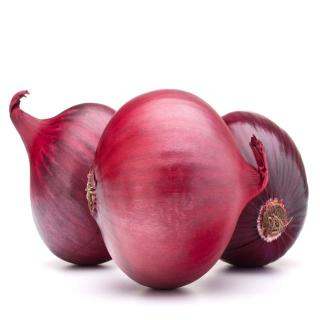Bawang Merah: (85, 88, 269, 291)
